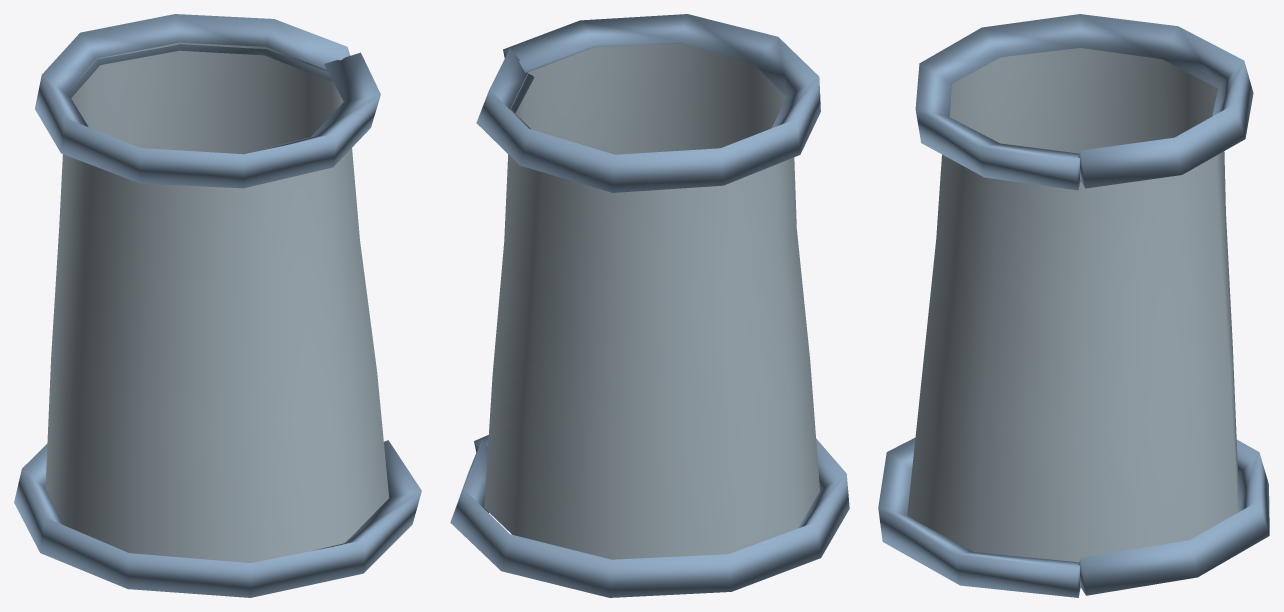
File: platinum_armor_bracer.R.glb
3 renders of one model, left to right at view 1: azimuth 30°, elevation 25°; view 2: azimuth 150°, elevation 25°; view 3: azimuth 270°, elevation 25°, orthographic.
Visible parts, largest first — view 1: platinum_armor_bracer.R; view 2: platinum_armor_bracer.R; view 3: platinum_armor_bracer.R.
Boxes of the visible parts, x1,y1,x2,y2 form: platinum_armor_bracer.R: (14, 14, 421, 597); platinum_armor_bracer.R: (450, 14, 849, 597); platinum_armor_bracer.R: (878, 14, 1269, 597).
Bounding box in the file's own units: 0.1435 × 0.1719 × 0.1408.
